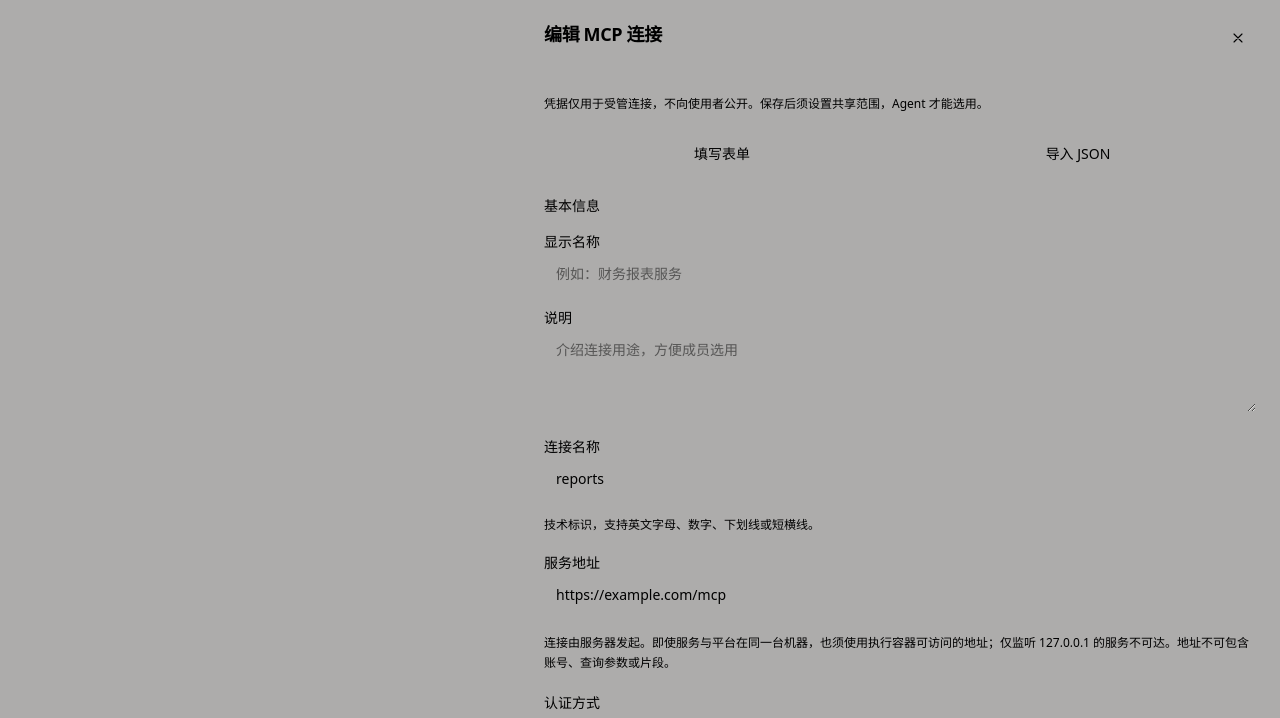
save and test never probes if updating the connection fails
The width and height of the screenshot is (1280, 718).
Expected: the field showing "reports" is shown, [544, 461, 1256, 497]
Type "https://changed.example/mcp" into the field labelled "服务地址" at [900, 595], box [544, 577, 1256, 613]
(page scrolled)
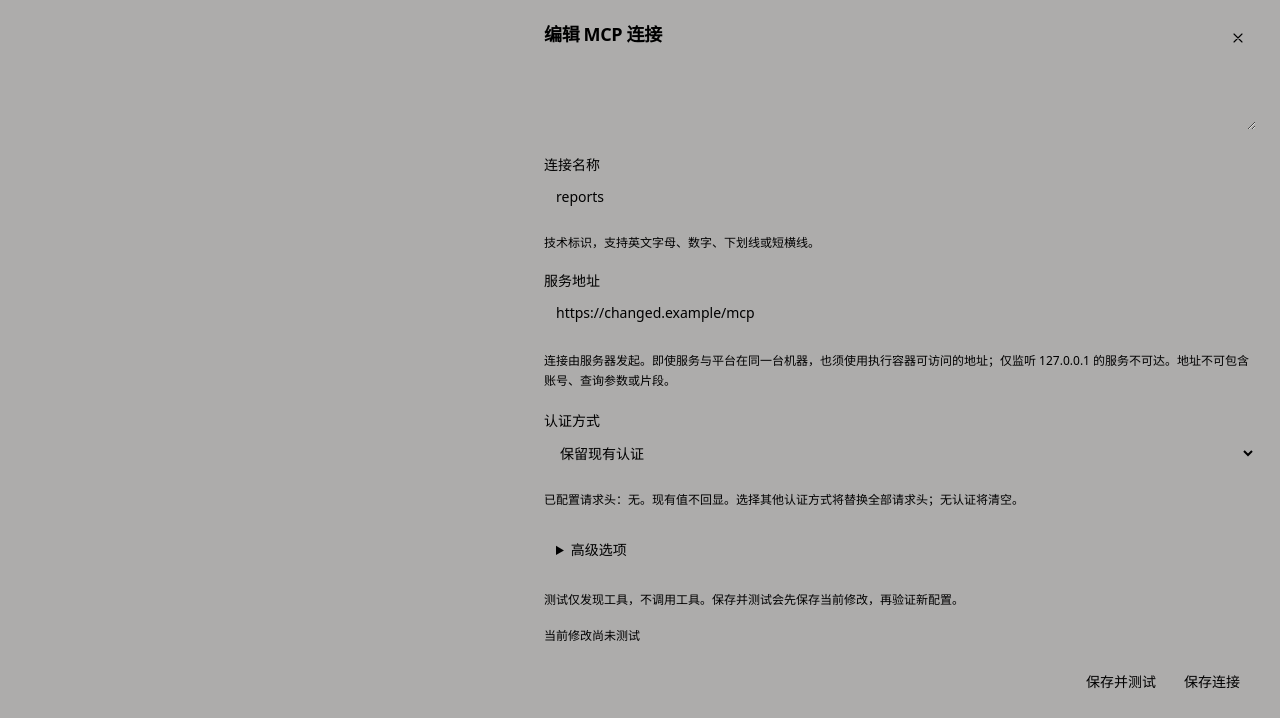
Click the button "保存并测试" at [1121, 682], box [1086, 664, 1156, 700]
(page scrolled)
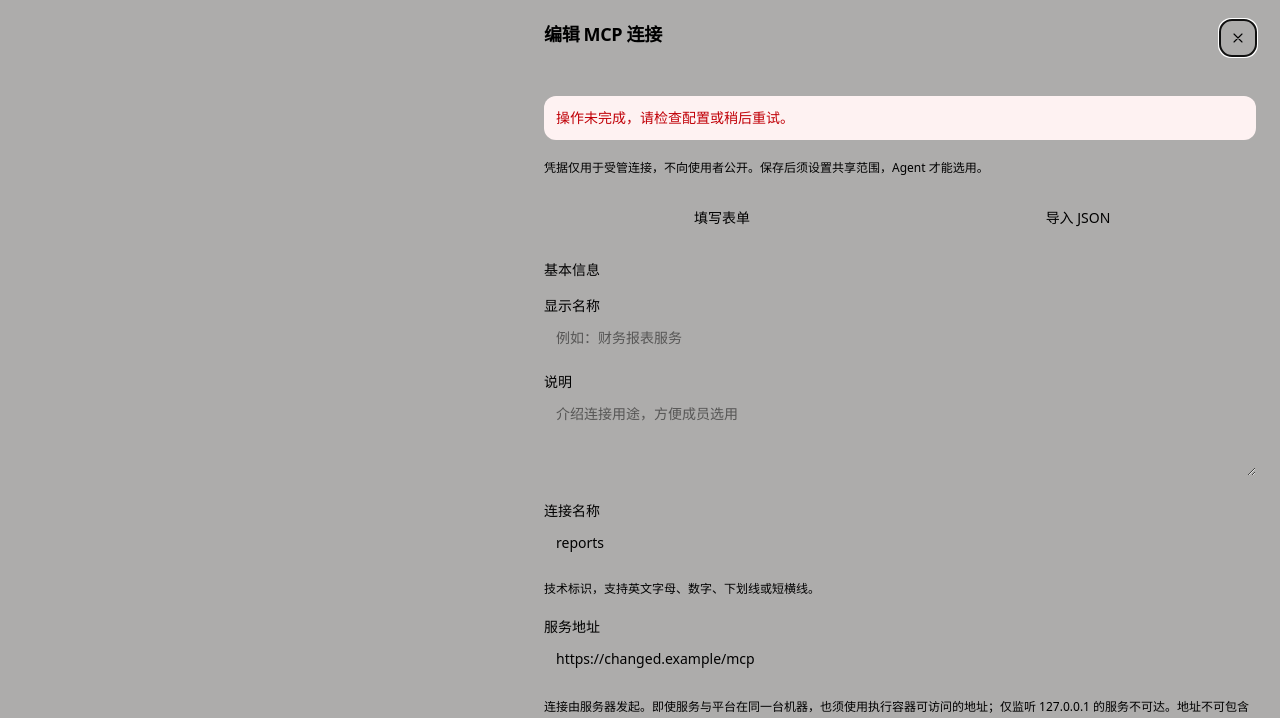
Expected: the message "操作未完成，请检查配置或稍后重试。" is shown, [544, 96, 1256, 140]
